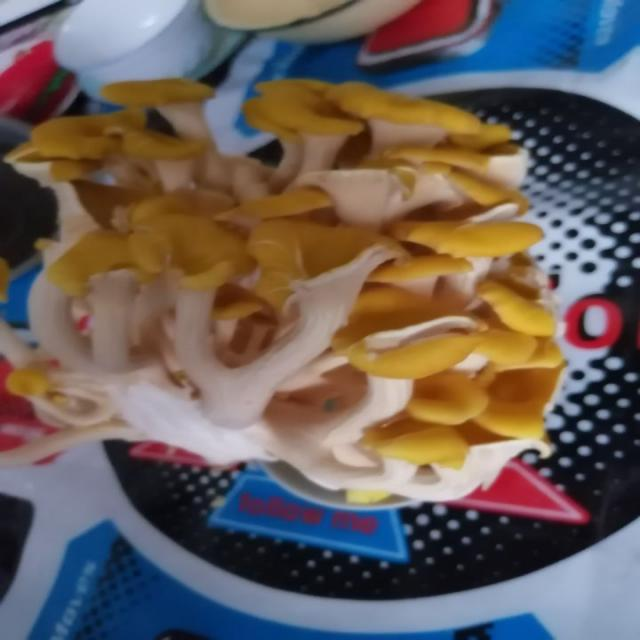Pleurotus citrinopileatus: (0, 78, 563, 504)
